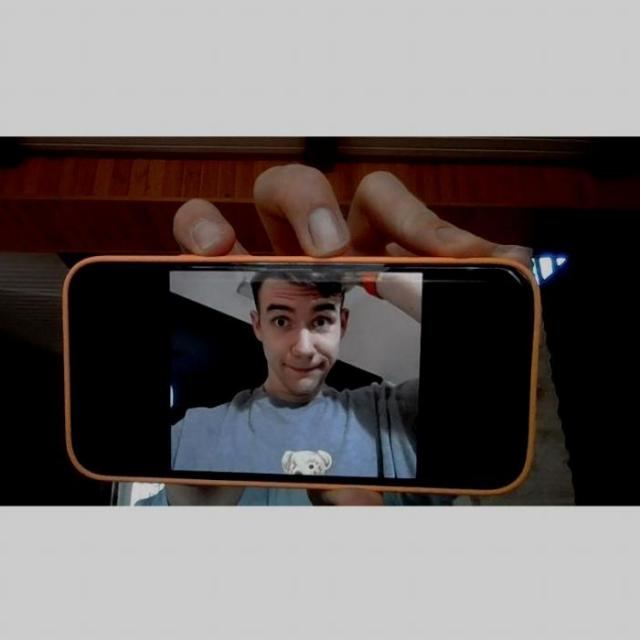device: (66, 260, 536, 493)
